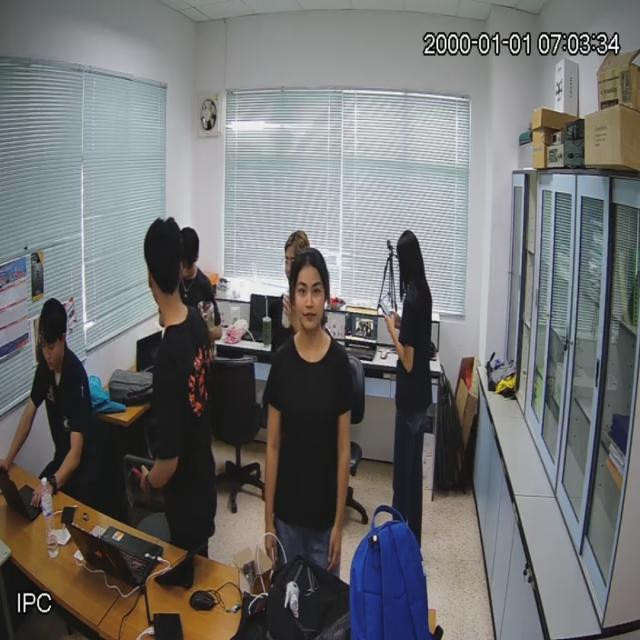normal: (142, 217, 222, 571), (267, 247, 352, 564), (34, 286, 110, 518), (385, 222, 435, 540)
